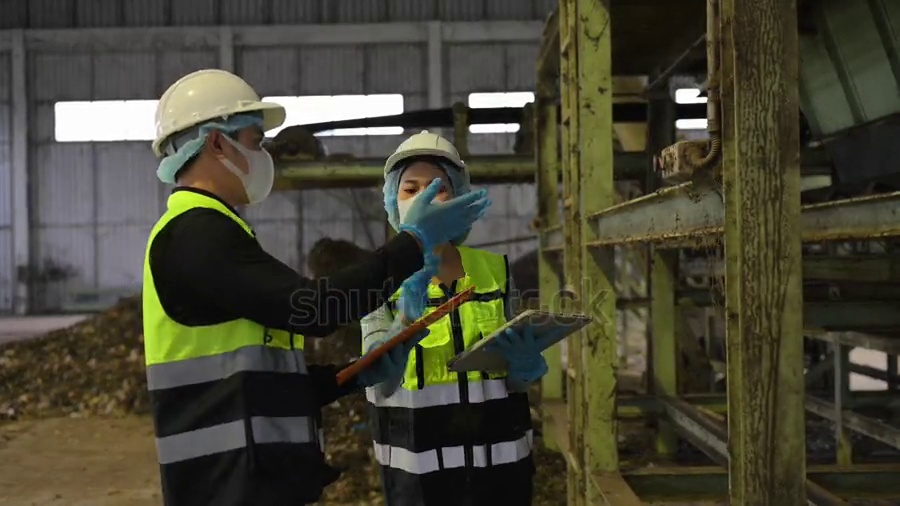helmet: (150, 70, 284, 157), (383, 131, 466, 181)
mask: (233, 148, 274, 204), (397, 198, 459, 233)
person: (141, 66, 492, 506), (361, 129, 549, 506)
